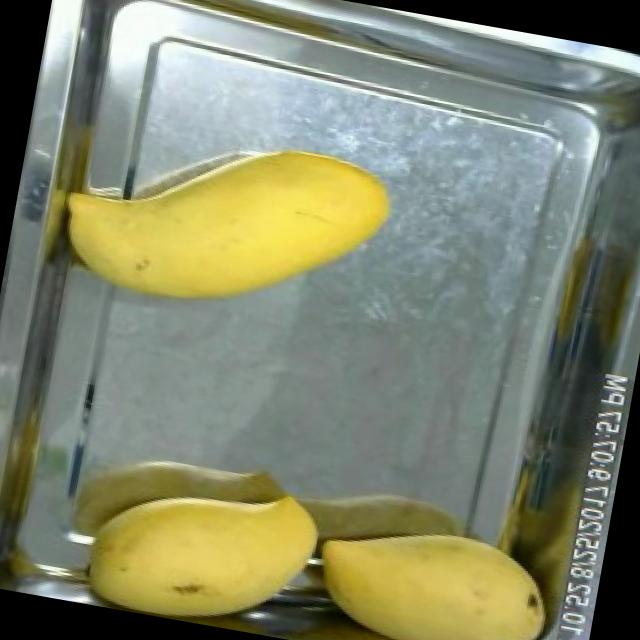fruit: (41, 102, 413, 349), (71, 455, 336, 640), (293, 492, 571, 640)
